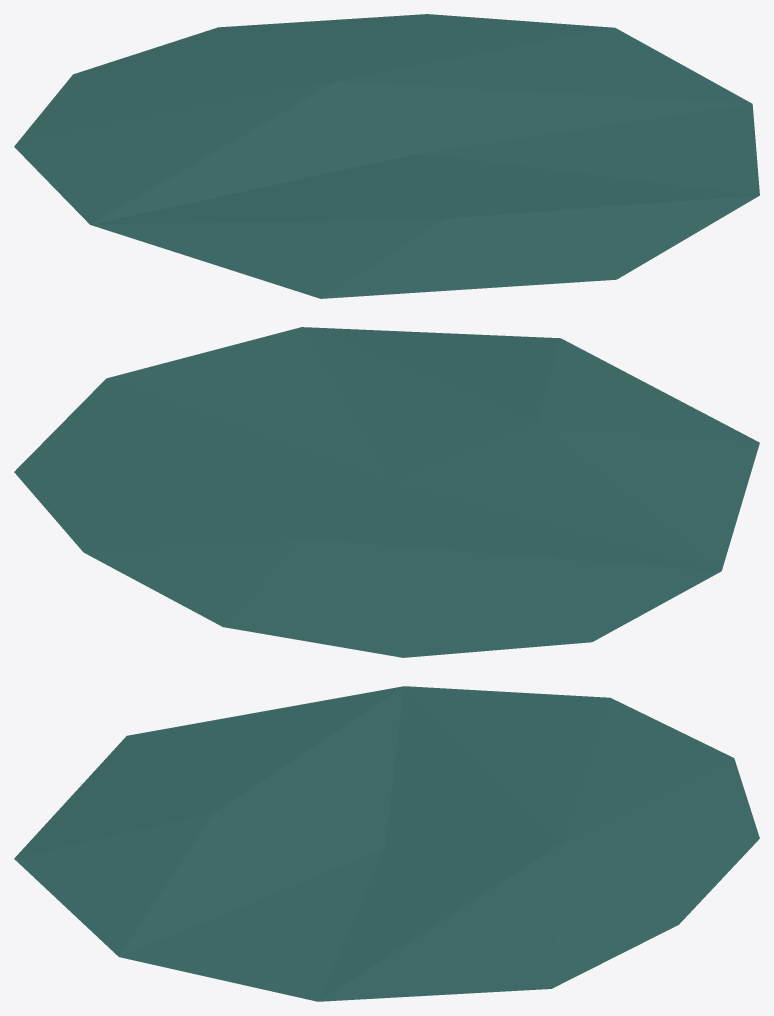
Rendered from SM_Env_Ground_Oasis_Water_01.fbx.
3 views of the same model, one above another, from view 1: azimuth 30°, elevation 25°; view 2: azimuth 150°, elevation 25°; view 3: azimuth 270°, elevation 25° (orthographic). The views are drawn at different scales.
Visible parts, largest first — view 1: SM_Env_Ground_Oasis_Water_01; view 2: SM_Env_Ground_Oasis_Water_01; view 3: SM_Env_Ground_Oasis_Water_01.
Part boxes in pixels (x1=…): SM_Env_Ground_Oasis_Water_01: x1=14, y1=14, x2=759, y2=298; SM_Env_Ground_Oasis_Water_01: x1=14, y1=327, x2=759, y2=657; SM_Env_Ground_Oasis_Water_01: x1=14, y1=686, x2=759, y2=1001.
Size of the model in its own units: 1214 by 16.4 by 1213.
